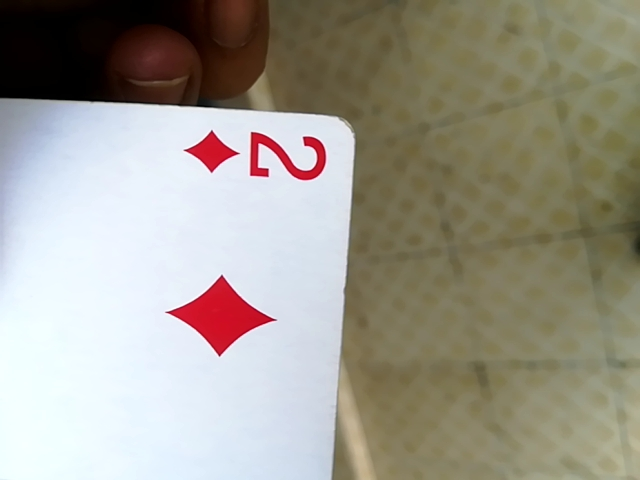fk 2: (0, 77, 366, 480)
